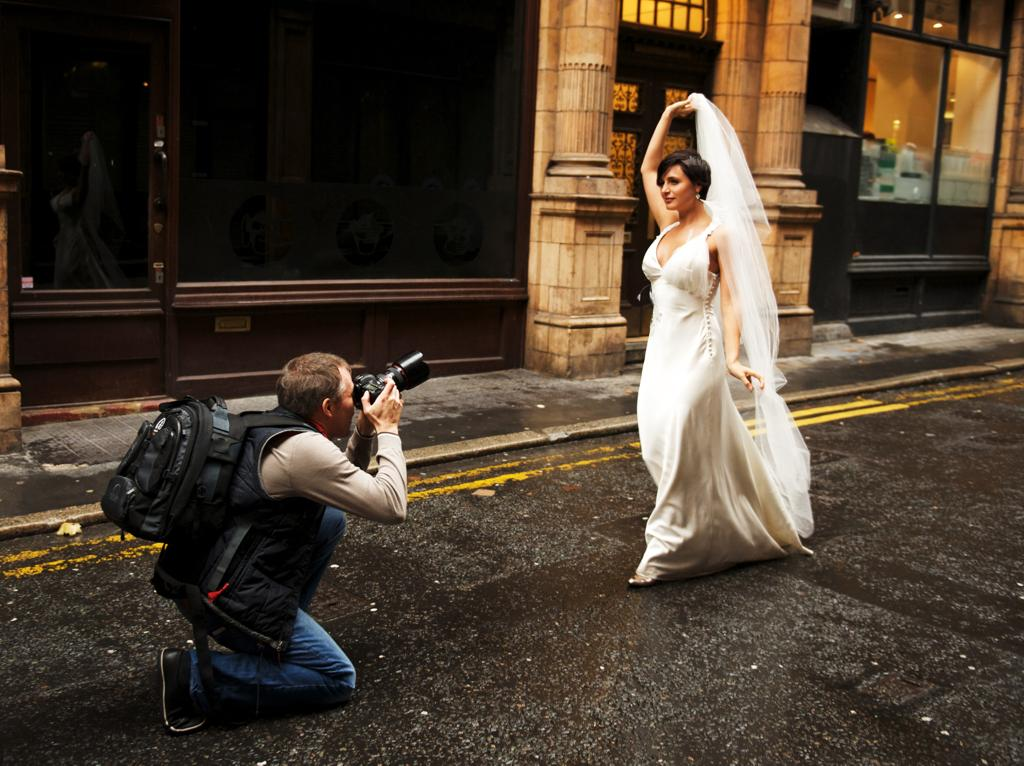face: (319, 373, 354, 437), (659, 161, 691, 208)
